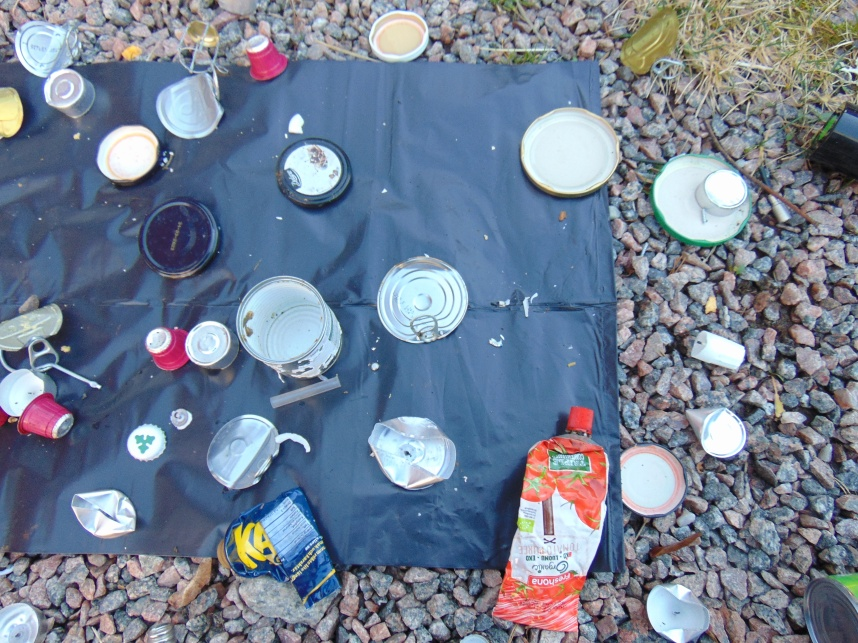metal: (378, 256, 470, 344), (369, 416, 458, 491)
